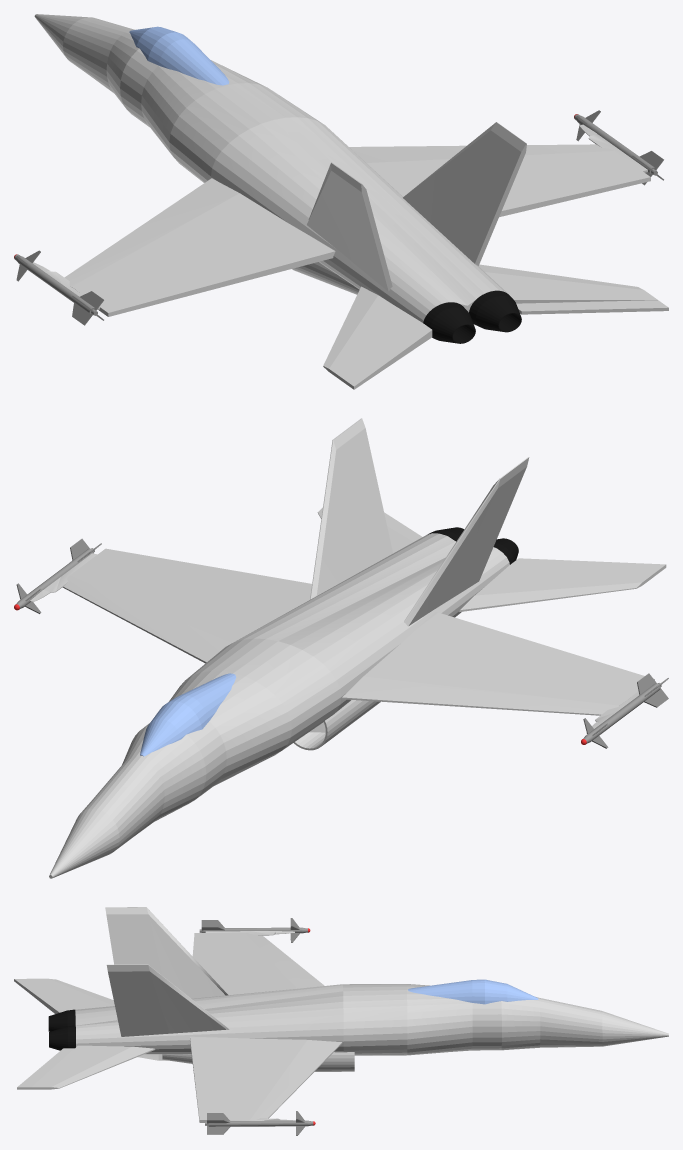
3 views of the same model, one above another, from view 1: azimuth 30°, elevation 25°; view 2: azimuth 150°, elevation 25°; view 3: azimuth 270°, elevation 25° (orthographic). The views are drawn at different scales.
Visible parts, largest first — view 1: fuselage, main wing, rear horz, vert stabil r, vert stabil l, dome, rear thrust r, rear thrust l, Cylinder.001, intake l, Cylinder; view 2: fuselage, main wing, vert stabil r, rear horz, vert stabil l, dome, intake l, Cylinder.001; view 3: fuselage, main wing, vert stabil r, vert stabil l, rear horz, dome, intake r, Cylinder, rear thrust r, rear thrust l, Cylinder.001.
Part boxes in pixels (left/top/right/bottom): fuselage: left=34, top=14, right=509, bottom=325; main wing: left=64, top=144, right=650, bottom=316; rear horz: left=323, top=264, right=668, bottom=389; vert stabil r: left=403, top=122, right=526, bottom=265; vert stabil l: left=307, top=162, right=392, bottom=291; dome: left=129, top=26, right=229, bottom=85; rear thrust r: left=469, top=290, right=521, bottom=332; rear thrust l: left=423, top=302, right=475, bottom=343; Cylinder.001: left=14, top=254, right=97, bottom=315; intake l: left=292, top=262, right=359, bottom=294; Cylinder: left=574, top=114, right=657, bottom=175; fuselage: left=49, top=533, right=509, bottom=878; main wing: left=62, top=548, right=654, bottom=715; vert stabil r: left=310, top=418, right=392, bottom=599; rear horz: left=317, top=507, right=666, bottom=611; vert stabil l: left=404, top=457, right=529, bottom=626; dome: left=140, top=673, right=236, bottom=756; intake l: left=294, top=700, right=380, bottom=750; Cylinder.001: left=583, top=683, right=661, bottom=743; fuselage: left=75, top=984, right=668, bottom=1055; main wing: left=190, top=933, right=342, bottom=1122; vert stabil r: left=106, top=964, right=229, bottom=1036; vert stabil l: left=105, top=907, right=228, bottom=998; rear horz: left=14, top=978, right=155, bottom=1089; dome: left=408, top=979, right=538, bottom=1004; intake r: left=162, top=1052, right=354, bottom=1071; Cylinder: left=205, top=1120, right=313, bottom=1126; rear thrust r: left=49, top=1025, right=75, bottom=1050; rear thrust l: left=48, top=1009, right=75, bottom=1031; Cylinder.001: left=199, top=927, right=307, bottom=933.
Bounding box in the file's own units: 2.03 × 0.5777 × 2.8.
